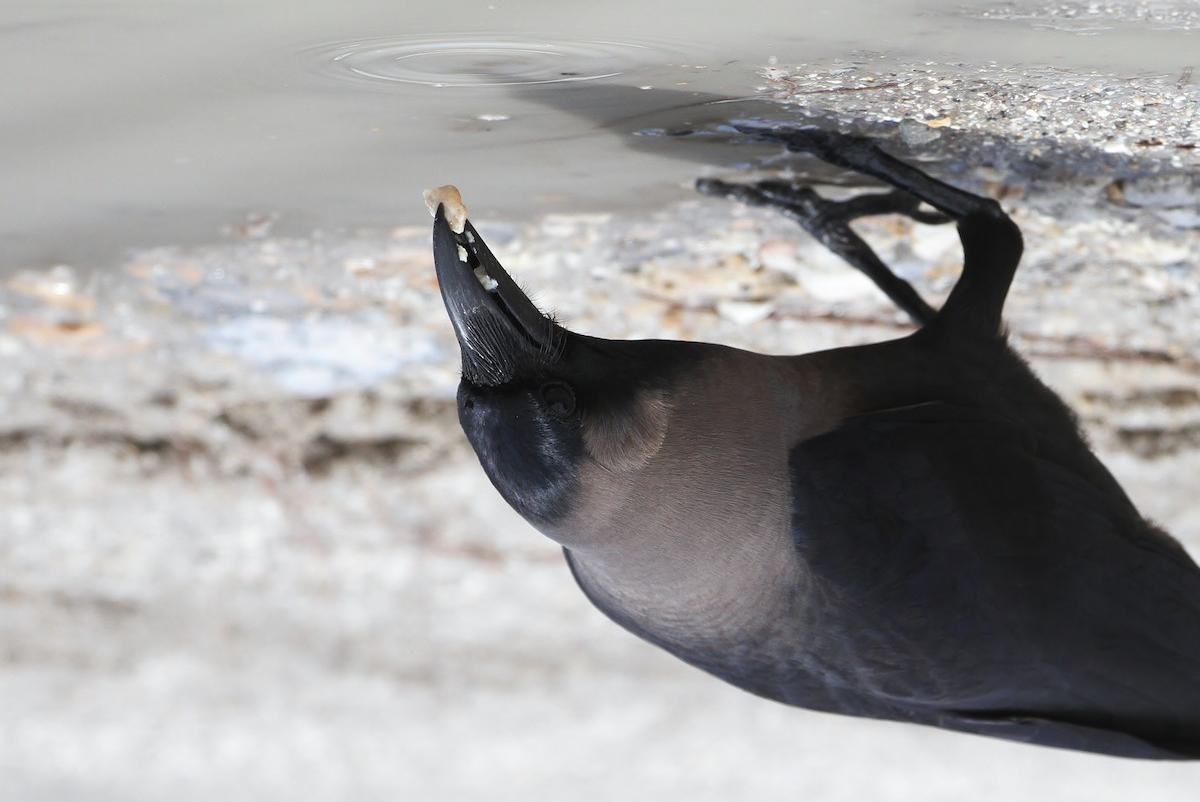crow: (420, 144, 1200, 752)
